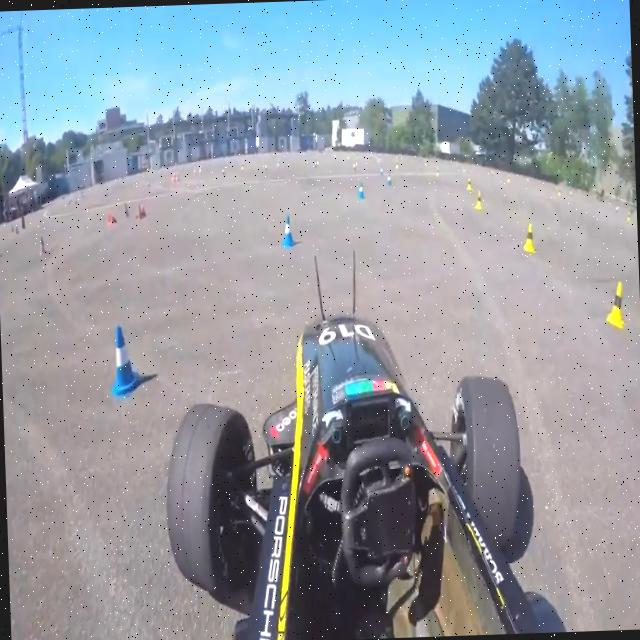blue_cone: (109, 324, 143, 402), (281, 214, 295, 248), (357, 182, 365, 200)
yellow_cone: (605, 279, 625, 328), (522, 222, 536, 254), (474, 190, 483, 210)
